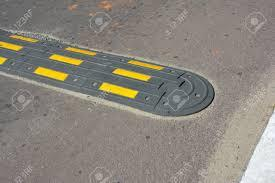Bump: (0, 28, 223, 123)
